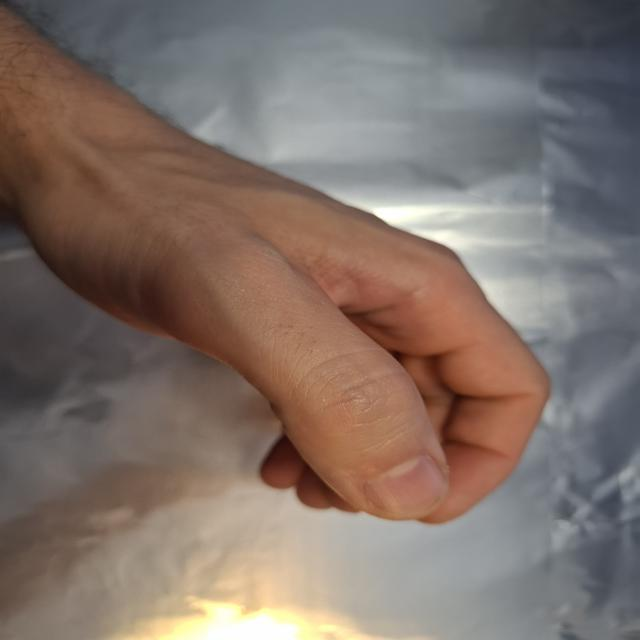glove_off: (9, 104, 554, 529)
